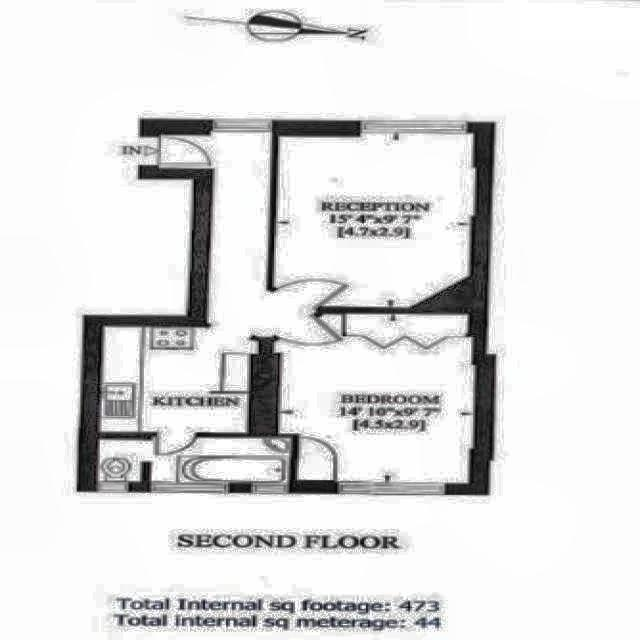room: (99, 131, 317, 433), (273, 132, 476, 308), (273, 312, 470, 483), (97, 436, 291, 484)
